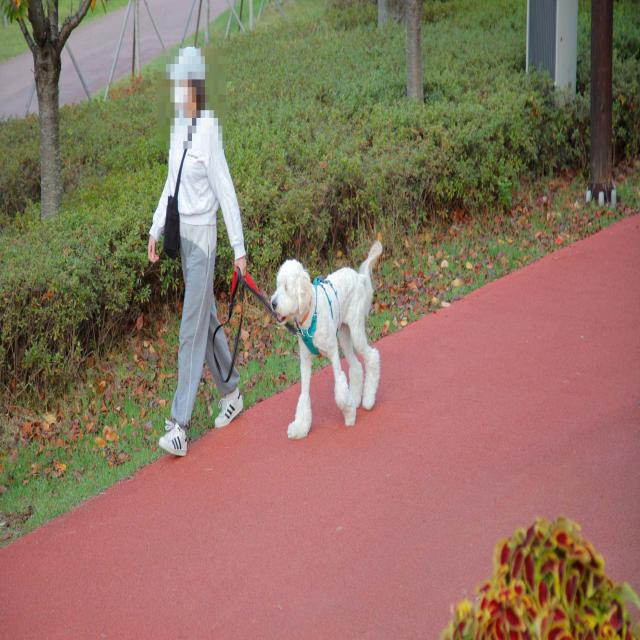Leashed_Dog: (202, 239, 384, 442)
